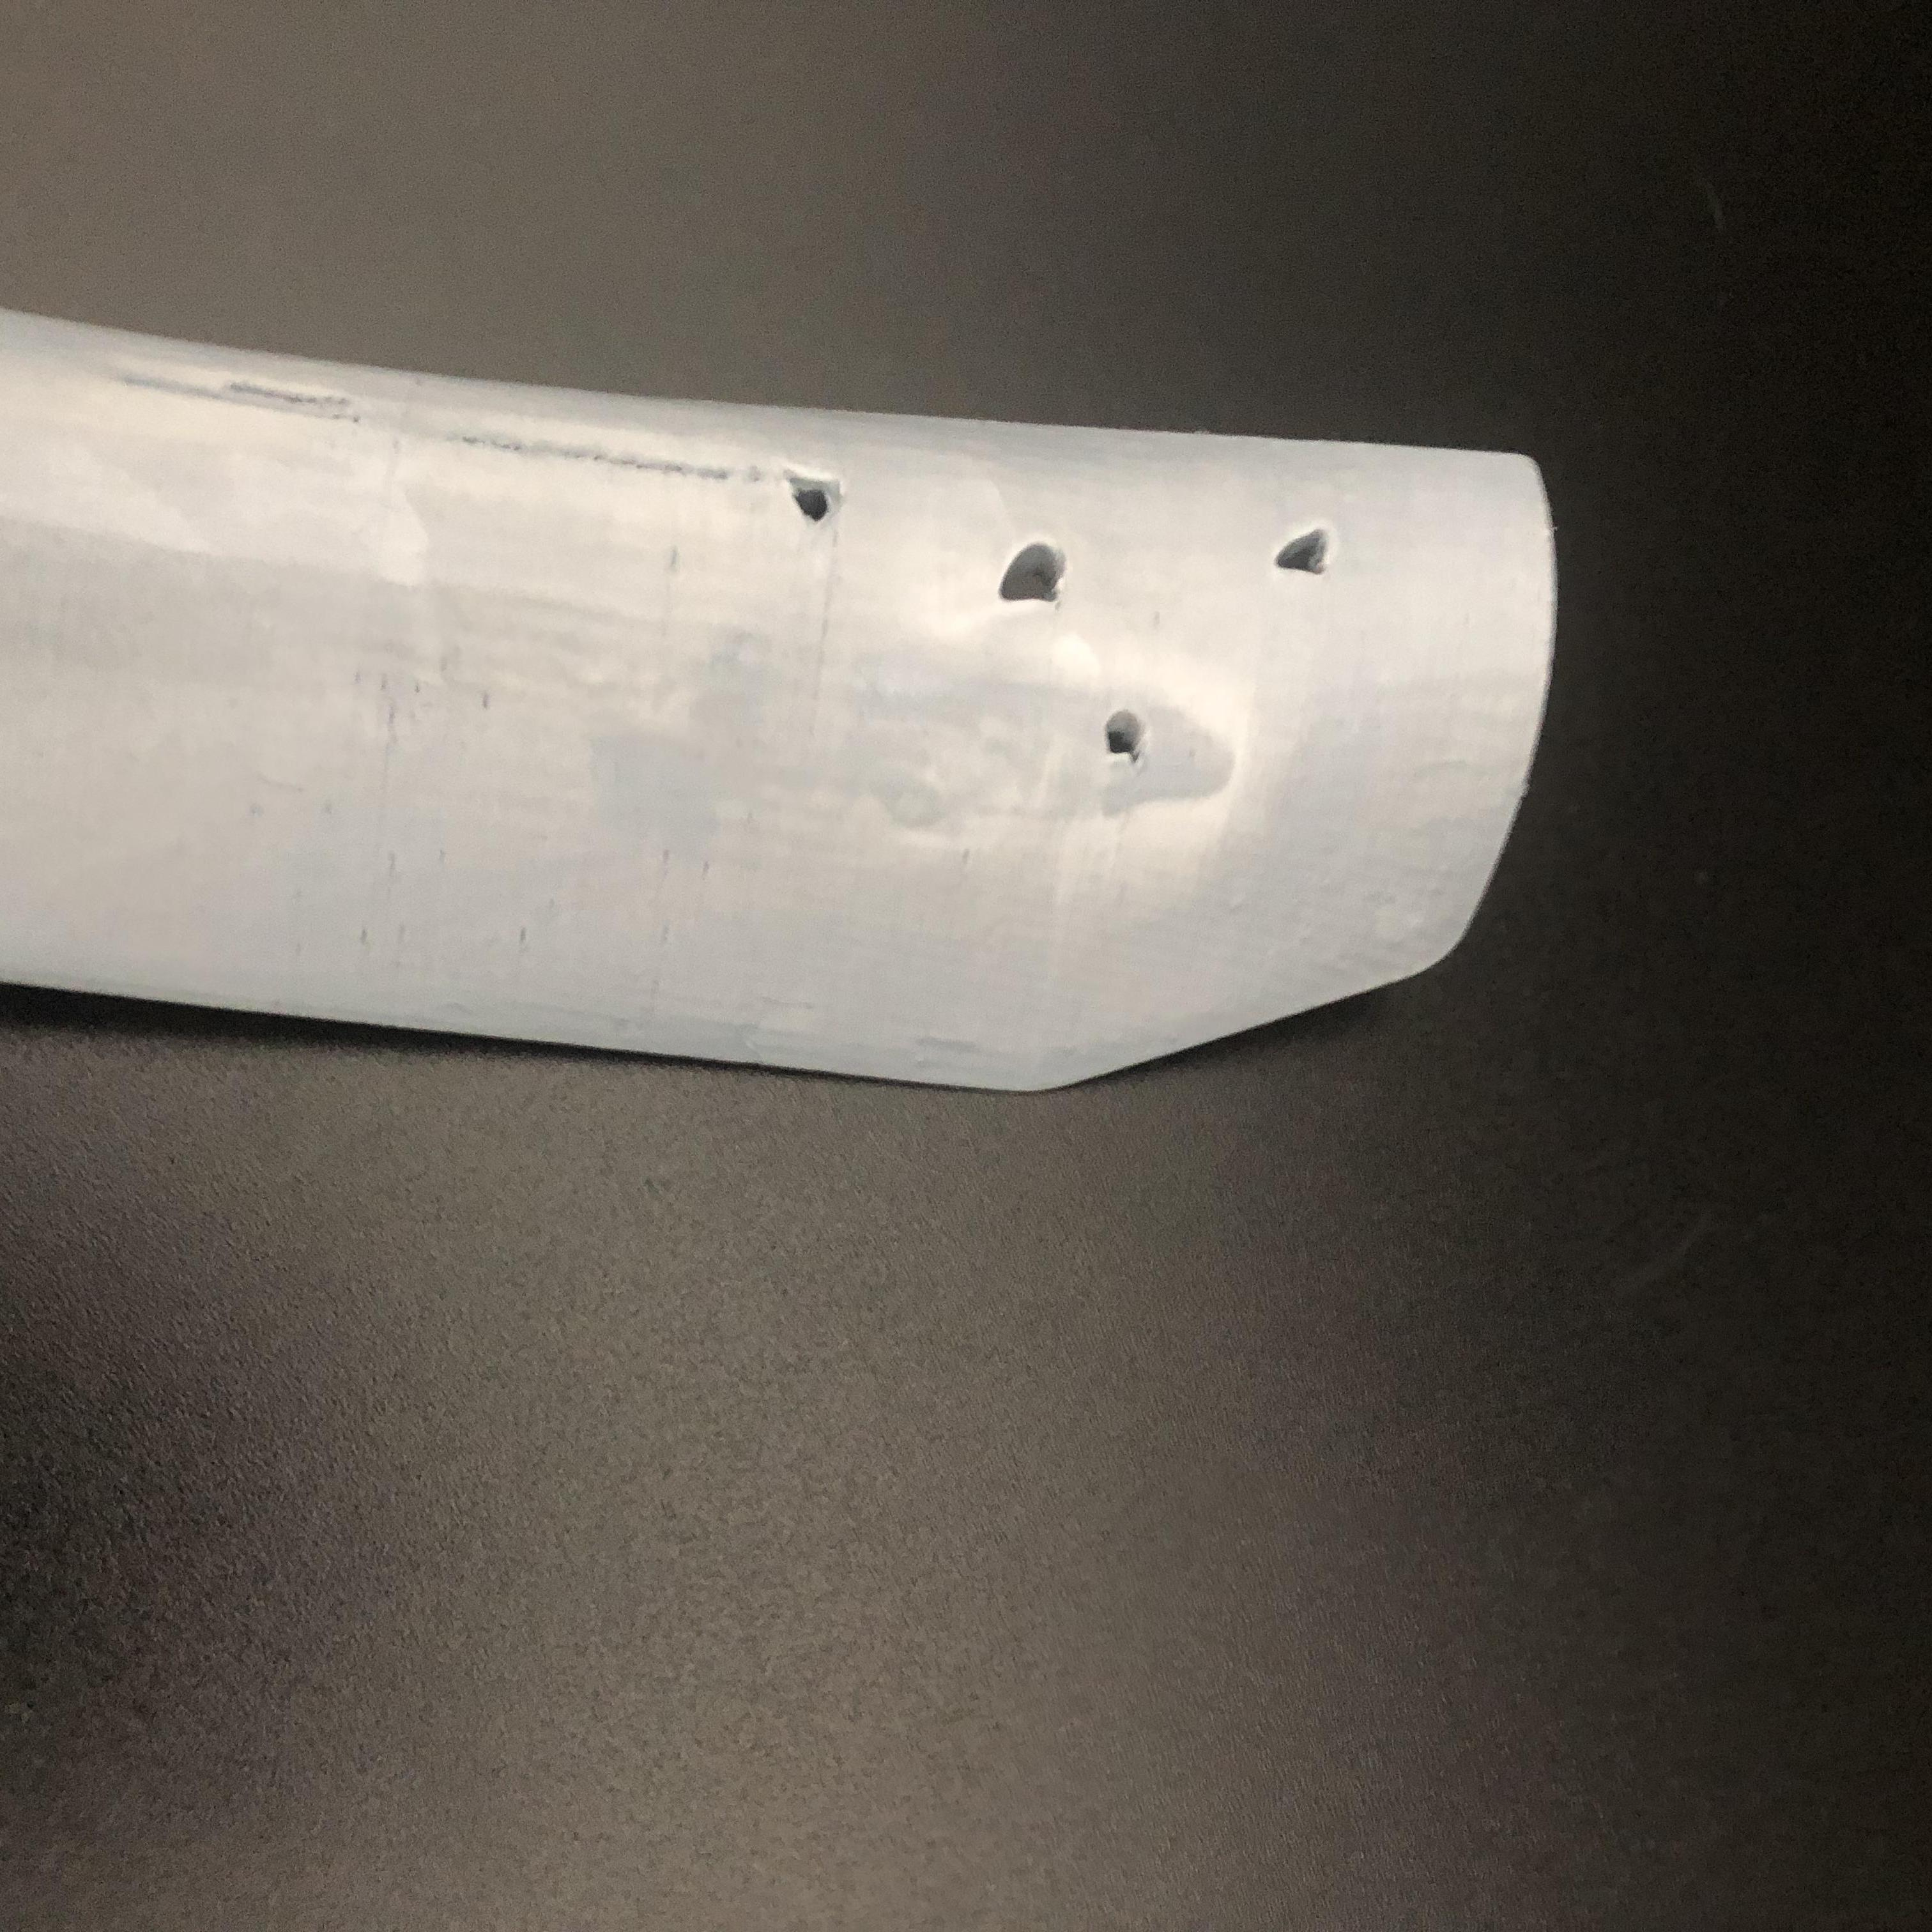breakdown: (770, 449, 1343, 782)
